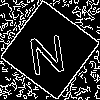N: (25, 25, 68, 75)
